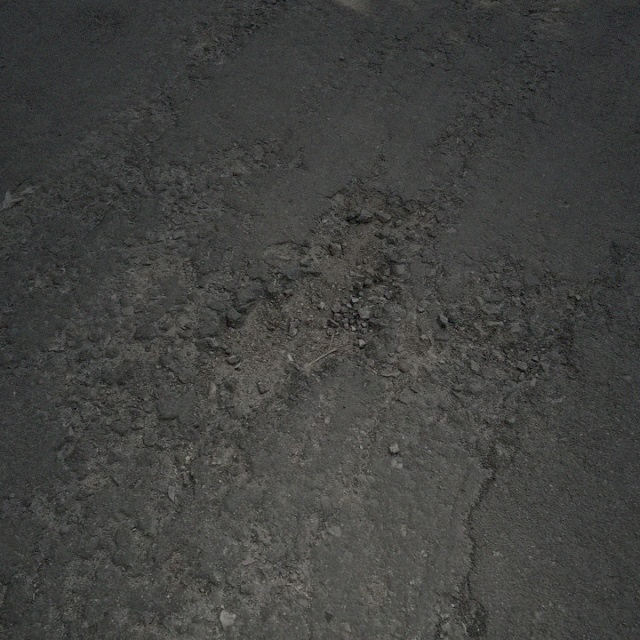pothole: (202, 174, 446, 412)
